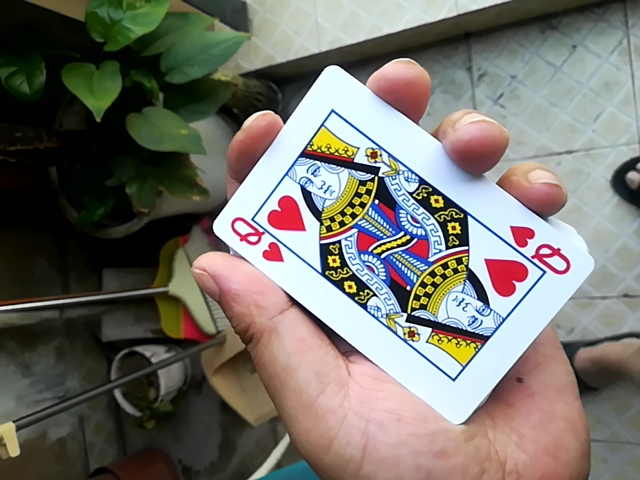hx q: (209, 64, 602, 436)
